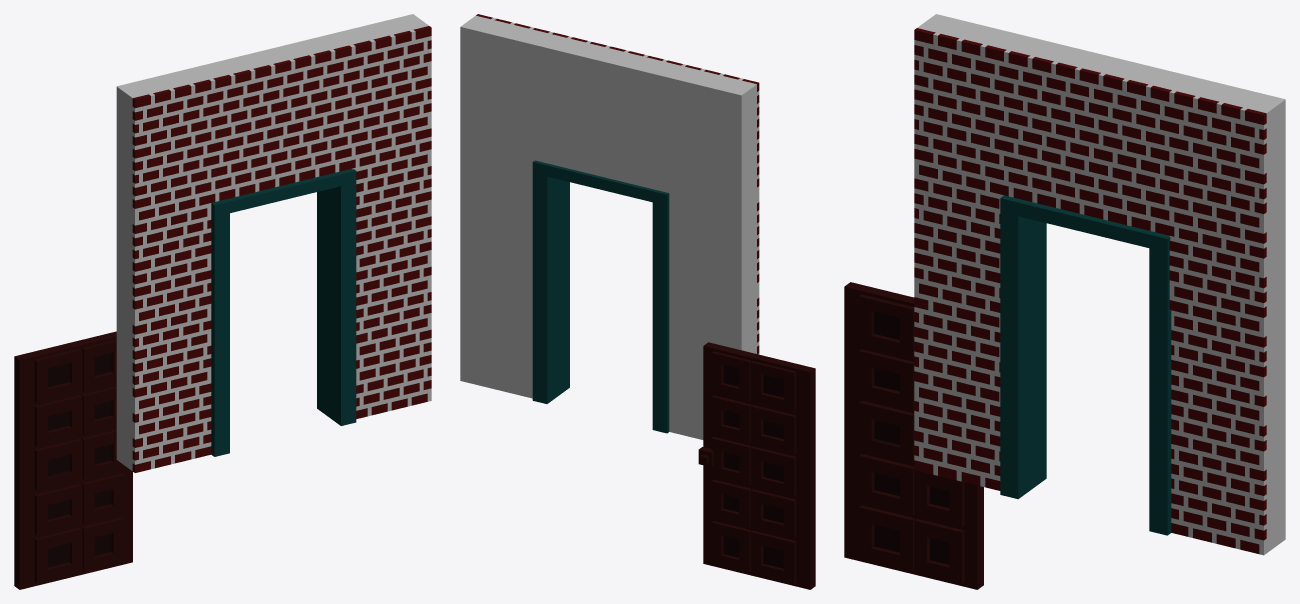
The picture shows the model from 3 angles, left to right: view 1: azimuth 30°, elevation 25°; view 2: azimuth 150°, elevation 25°; view 3: azimuth 330°, elevation 25°; orthographic projection. The views are drawn at different scales.
Parts seen in each view (by area): view 1: bar wall and interior.001, Untitled.001, Untitled; view 2: bar wall and interior.001, Untitled.001, Untitled; view 3: bar wall and interior.001, Untitled.001, Untitled.
Boxes of the visible parts, x1=… form: bar wall and interior.001: x1=116, y1=14, x2=431, y2=472; Untitled.001: x1=14, y1=331, x2=132, y2=589; Untitled: x1=213, y1=169, x2=356, y2=456; bar wall and interior.001: x1=460, y1=14, x2=759, y2=439; Untitled.001: x1=698, y1=342, x2=815, y2=589; Untitled: x1=532, y1=160, x2=655, y2=430; bar wall and interior.001: x1=914, y1=14, x2=1285, y2=555; Untitled.001: x1=844, y1=282, x2=983, y2=589; Untitled: x1=1000, y1=197, x2=1171, y2=535.
Bounding box in the file's own units: 2829 × 3444 × 557.
Materials: 2 (2 with a texture image).
